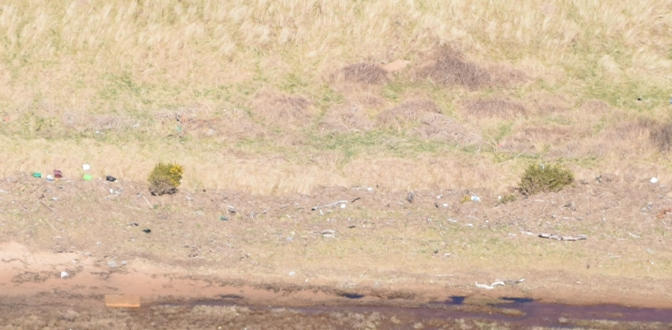scattered_barrel: (138, 171, 377, 246), (400, 185, 511, 296), (18, 137, 132, 209)
straight_bar: (533, 216, 595, 255)
white_in_green: (80, 266, 163, 330)
